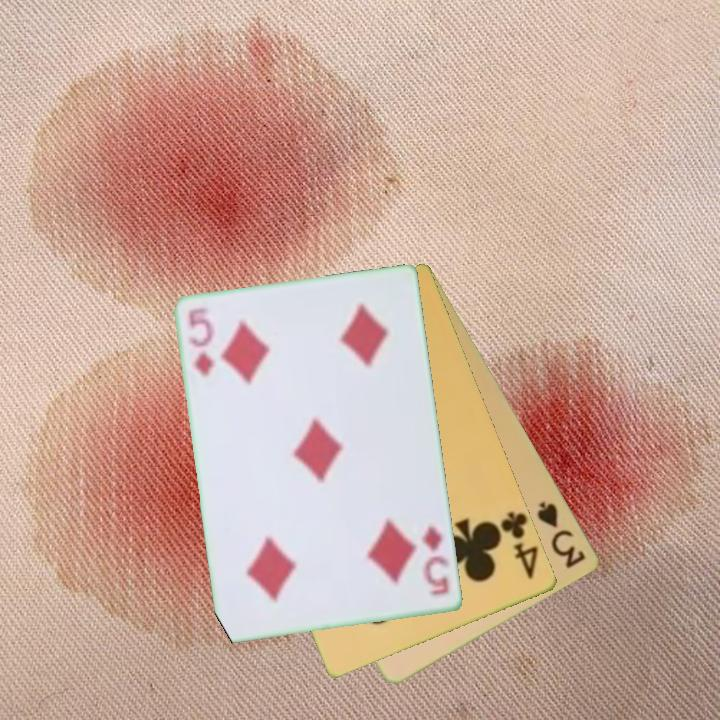3s: (534, 498, 590, 572)
4c: (497, 508, 542, 582)
5d: (419, 523, 452, 599), (185, 305, 218, 380)
